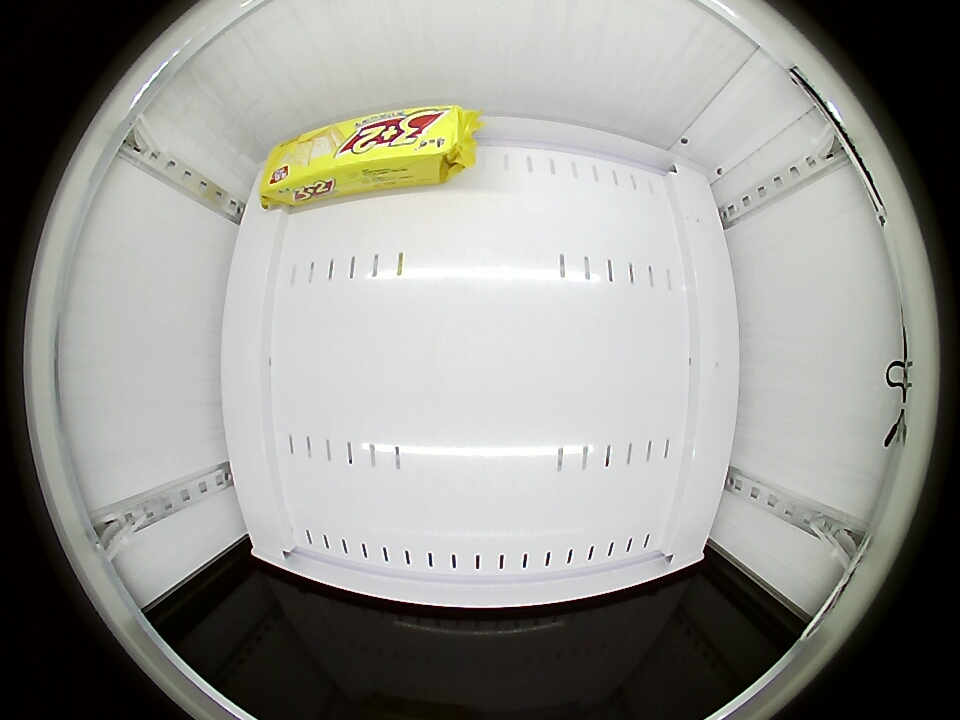3+2-2: (261, 106, 468, 200)
